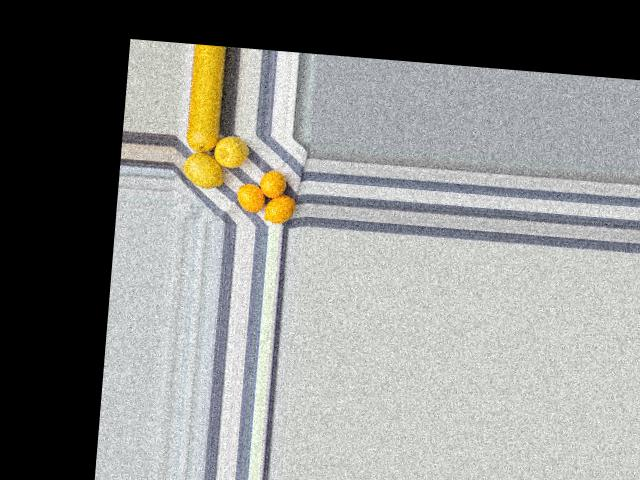lemon: (262, 194, 296, 224)
